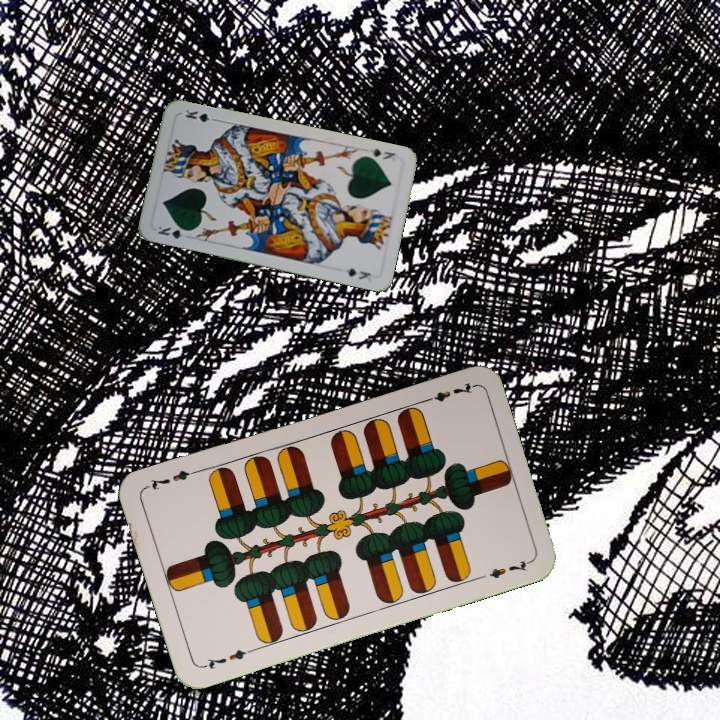E7: (418, 378, 476, 406), (199, 644, 256, 672)
GK: (154, 221, 193, 242), (366, 144, 398, 163)
